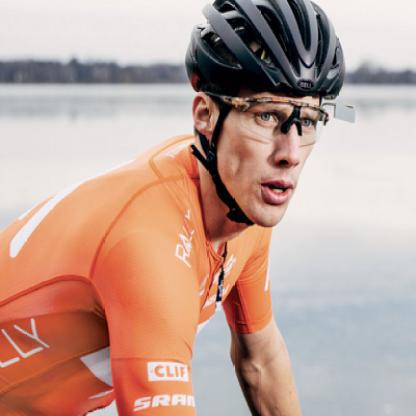With Helmet: (180, 0, 348, 231)
